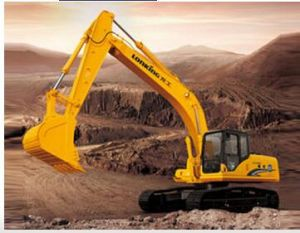backhoe: (23, 6, 280, 216)
